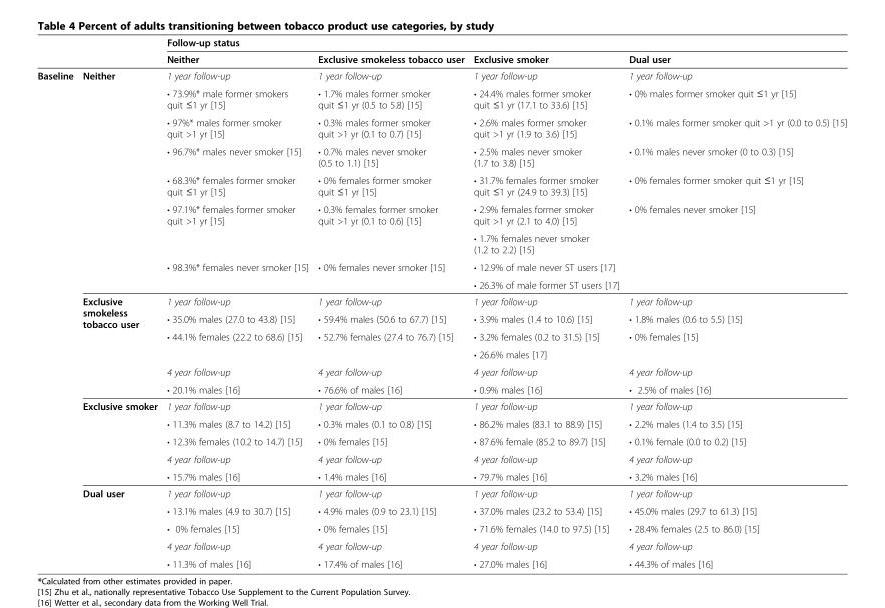table: (36, 36, 846, 569)
table column: (623, 36, 846, 569), (312, 36, 468, 569), (468, 36, 623, 569), (161, 36, 312, 569), (77, 36, 161, 569), (36, 36, 77, 569)
table column header: (36, 36, 846, 67)
table row: (36, 170, 846, 200), (36, 84, 846, 113), (36, 113, 846, 142), (36, 200, 846, 229), (36, 229, 846, 258), (36, 142, 846, 170), (36, 309, 846, 327), (36, 327, 846, 345), (36, 362, 846, 380), (36, 414, 846, 432), (36, 432, 846, 450), (36, 501, 846, 519), (36, 519, 846, 537), (36, 50, 846, 67), (36, 67, 846, 84), (36, 258, 846, 275), (36, 275, 846, 292), (36, 292, 846, 309), (36, 345, 846, 362), (36, 380, 846, 397), (36, 397, 846, 414), (36, 450, 846, 467), (36, 467, 846, 484), (36, 484, 846, 501), (36, 537, 846, 554), (36, 554, 846, 569), (36, 36, 846, 50)
table spanning cell: (36, 67, 77, 569), (623, 200, 846, 292), (77, 67, 161, 292), (161, 36, 846, 50), (312, 200, 468, 258), (77, 292, 161, 397), (161, 200, 312, 258), (623, 327, 846, 362), (77, 397, 161, 484), (77, 484, 161, 569), (312, 327, 468, 362), (312, 258, 468, 292), (161, 327, 312, 362), (161, 258, 312, 292)
